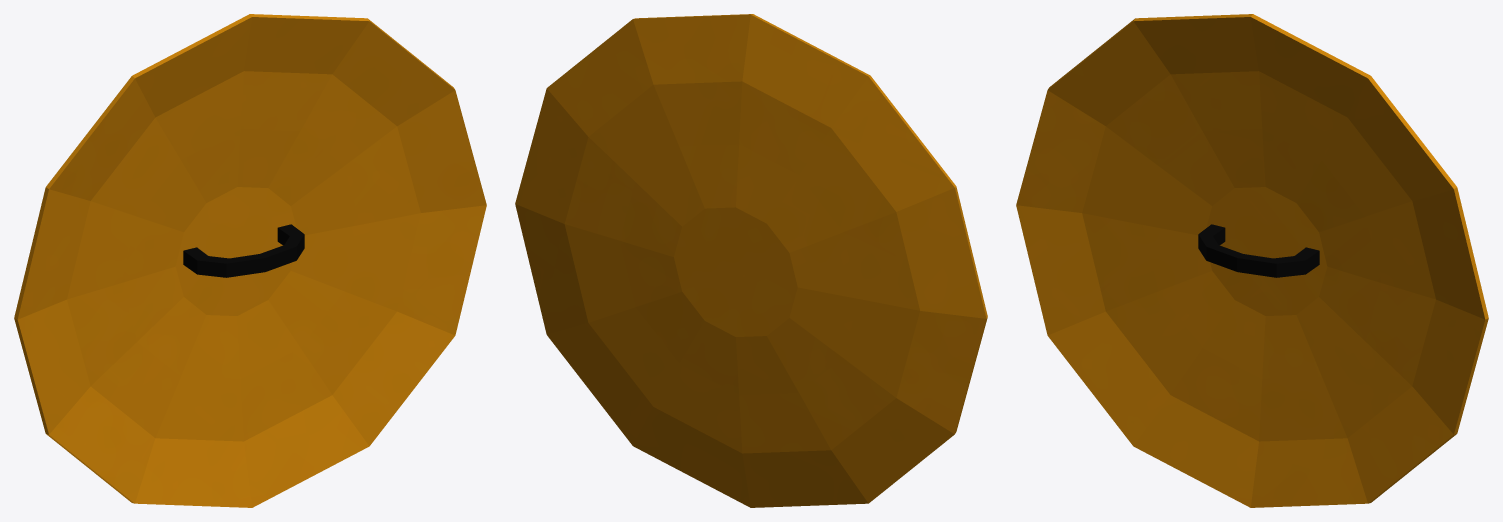
The model's file is Shield_2.fbx.
3 views of the same model, side by side, from view 1: azimuth 30°, elevation 25°; view 2: azimuth 150°, elevation 25°; view 3: azimuth 330°, elevation 25° (orthographic).
Parts seen in each view (by area): view 1: Shield 2; view 2: Shield 2; view 3: Shield 2.
Part boxes in pixels (x1,y1,x2,y2): Shield 2: (14,14,486,507); Shield 2: (515,14,987,507); Shield 2: (1016,14,1488,507).
Bounding box in the file's own units: 55.71 × 55.71 × 6.28.
